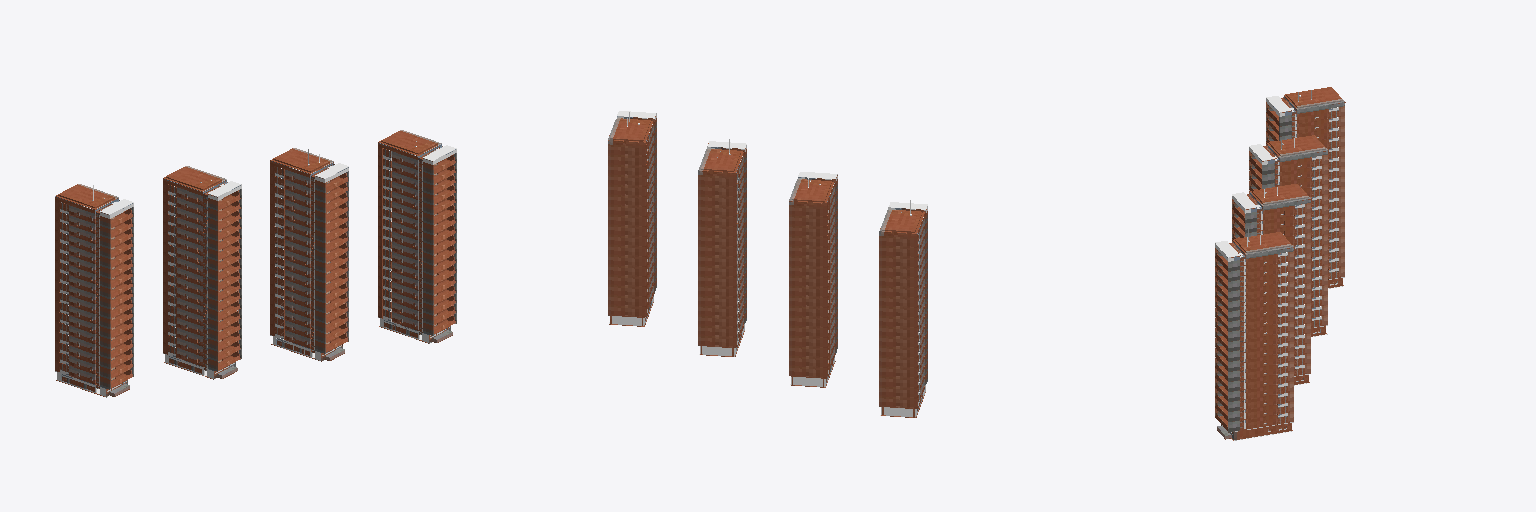
The picture shows the model from 3 angles: view 1: azimuth 30°, elevation 25°; view 2: azimuth 150°, elevation 25°; view 3: azimuth 270°, elevation 25°; orthographic projection.
Visible parts, largest first — view 1: Residential_Buildings_008_Cube.005; view 2: Residential_Buildings_008_Cube.005; view 3: Residential_Buildings_008_Cube.005.
Part boxes in pixels (left/top/right/bottom): Residential_Buildings_008_Cube.005: left=55, top=130, right=456, bottom=397; Residential_Buildings_008_Cube.005: left=608, top=111, right=927, bottom=417; Residential_Buildings_008_Cube.005: left=1215, top=87, right=1345, bottom=440.
Bounding box in the file's own units: 31.47 × 17.33 × 10.19.
Materials: 1 (1 with a texture image).